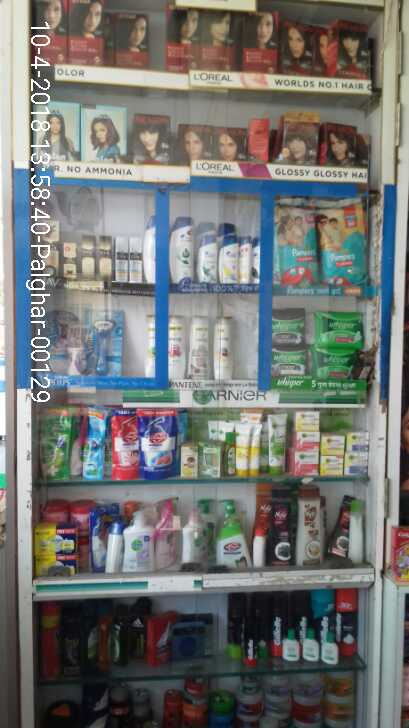gillete: (337, 586, 359, 655), (317, 587, 335, 653), (270, 591, 287, 657), (228, 594, 243, 660), (243, 615, 258, 665), (293, 589, 311, 627)
venus: (76, 308, 126, 377), (32, 307, 76, 377)
